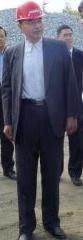boots: (4, 169, 17, 180), (18, 232, 32, 240)
hard-hat: (14, 0, 44, 21)
